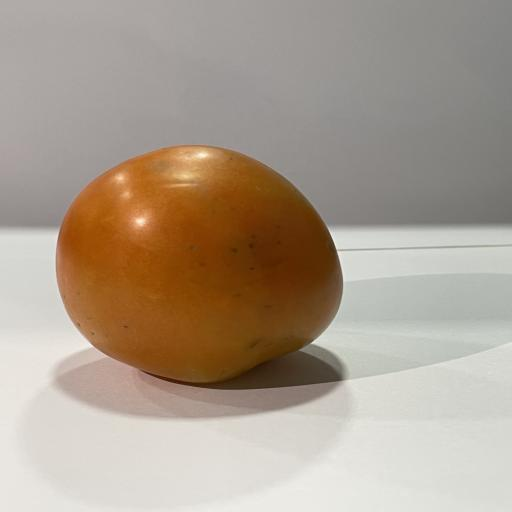unripe: (57, 145, 343, 383)
